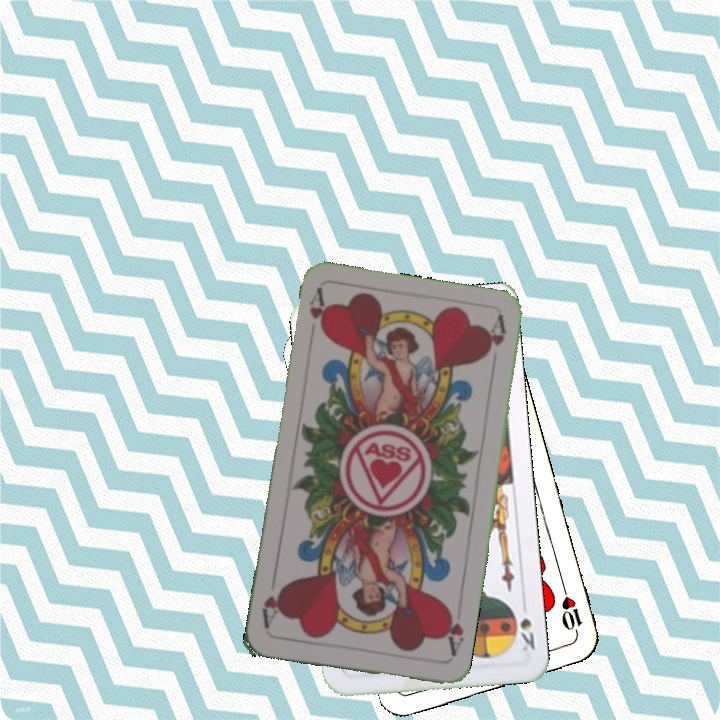H10: (557, 582, 585, 641)
HA: (439, 601, 466, 659), (305, 285, 331, 344)
SK: (516, 597, 538, 654)
